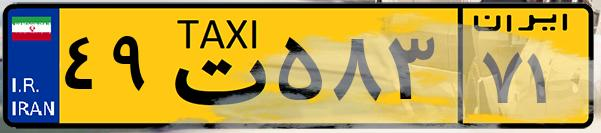1: (525, 38, 570, 115)
3: (385, 28, 445, 110)
4: (57, 26, 110, 100)
5: (270, 28, 330, 110)
7: (475, 38, 525, 113)
8: (330, 28, 385, 110)
9: (110, 28, 158, 98)
ت: (158, 12, 270, 120)
